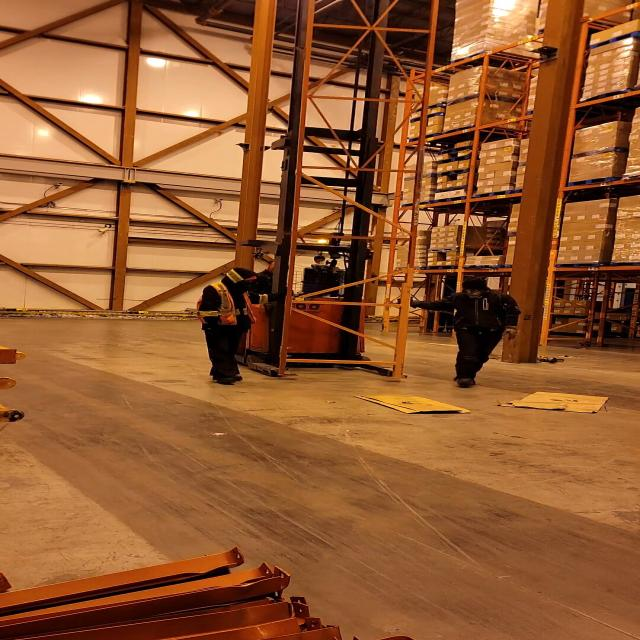forklift: (218, 134, 416, 384)
human: (408, 277, 523, 389), (194, 266, 270, 387), (248, 262, 296, 296)
objectofinterest: (272, 23, 424, 386), (498, 388, 612, 417), (357, 391, 476, 417)
